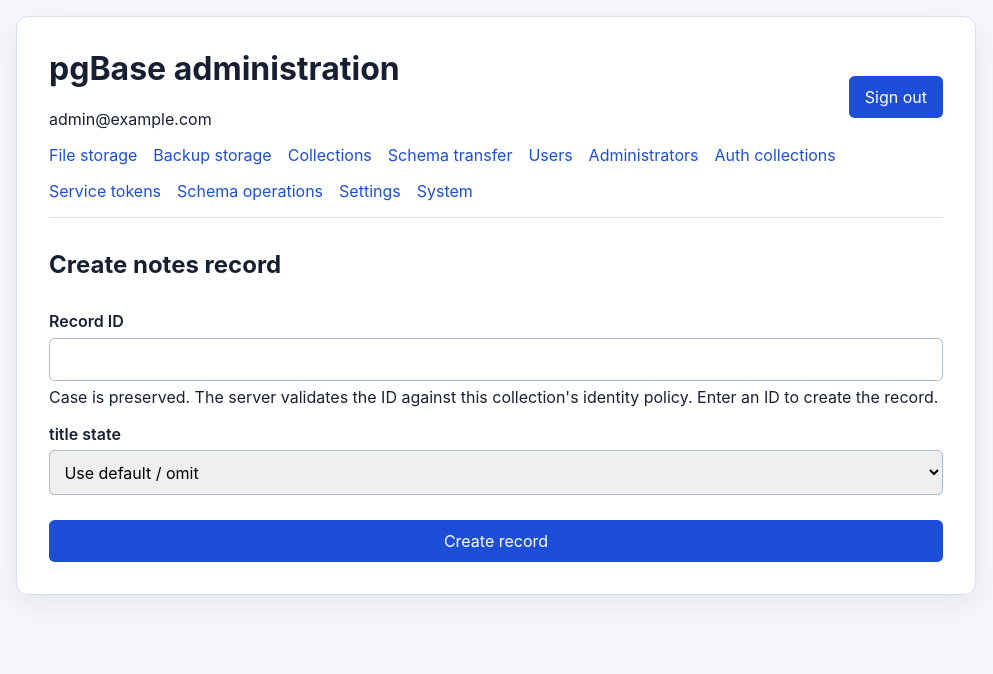
Test: record identity administration › creates a record with an exact mixed-case ID under the server's text policy
The image size is (993, 674).
Type "MiXeDNote01" into the field labelled "Record ID" at (496, 359), box [49,338,943,381]
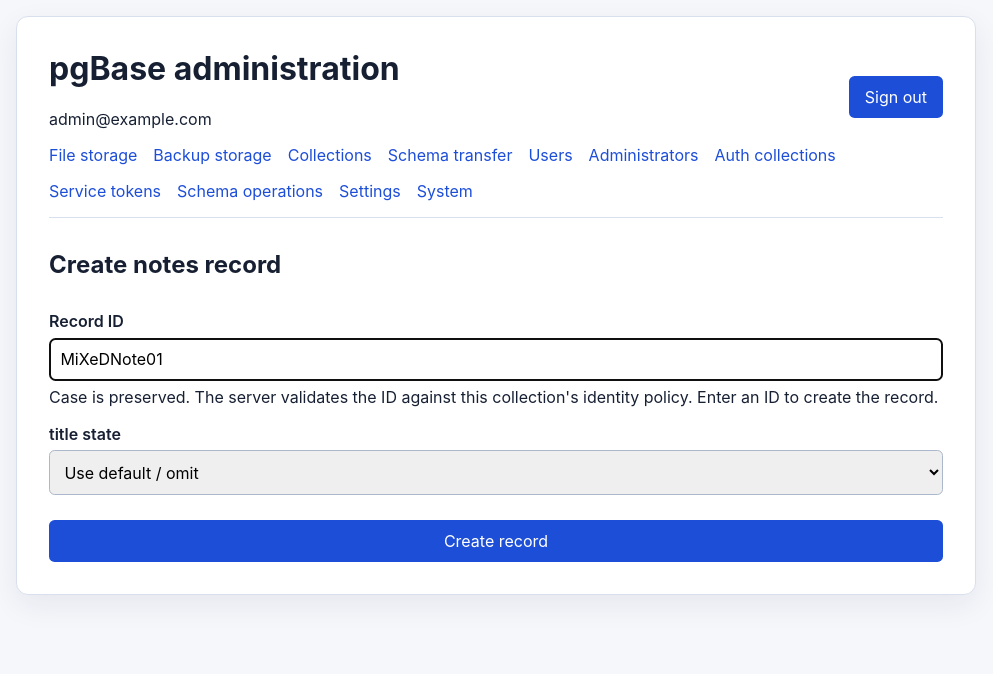
Click the button "Create record" at (496, 541), box [49,520,943,562]
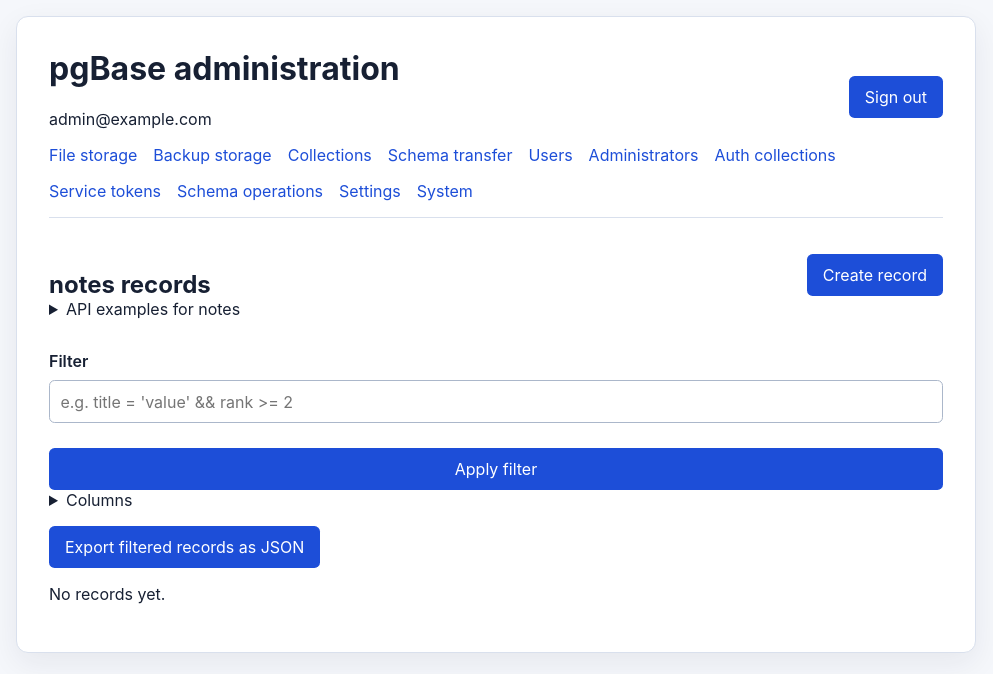
Expected: the heading "notes records" is shown, [49,270,211,299]
